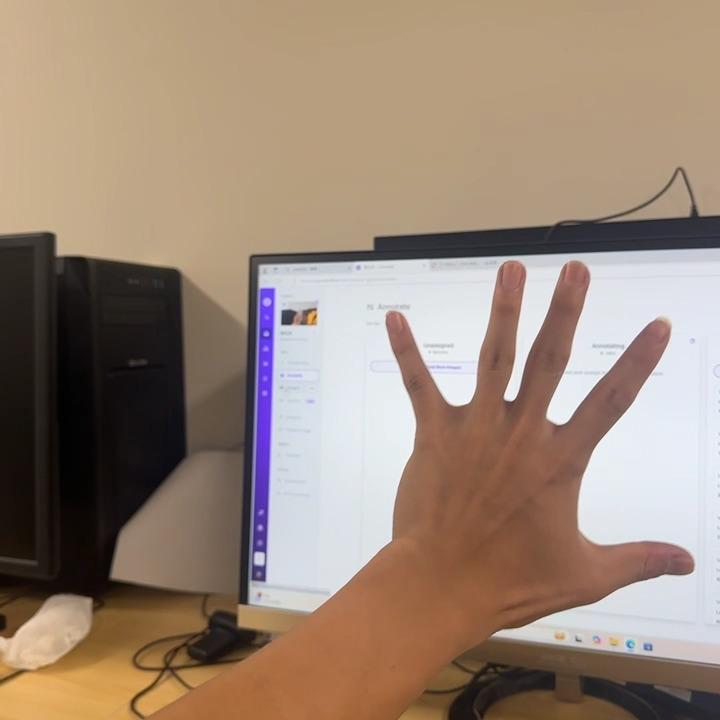without_gloves: (346, 200, 690, 626)
